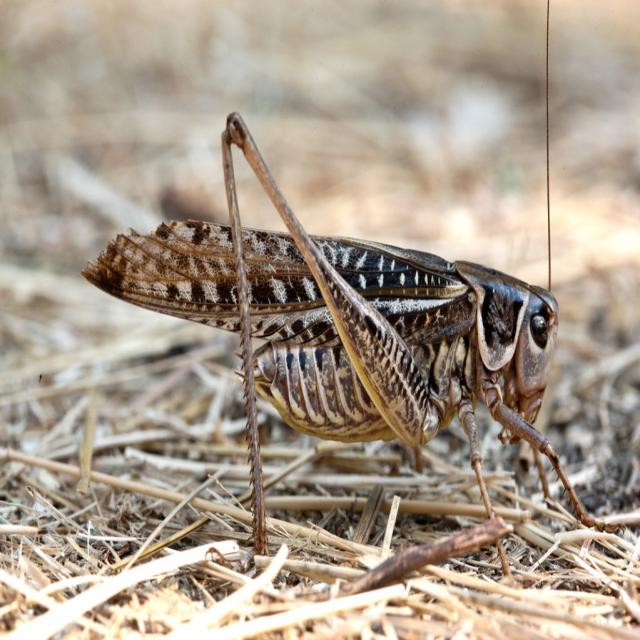ZhaMeng: (78, 160, 602, 503)
